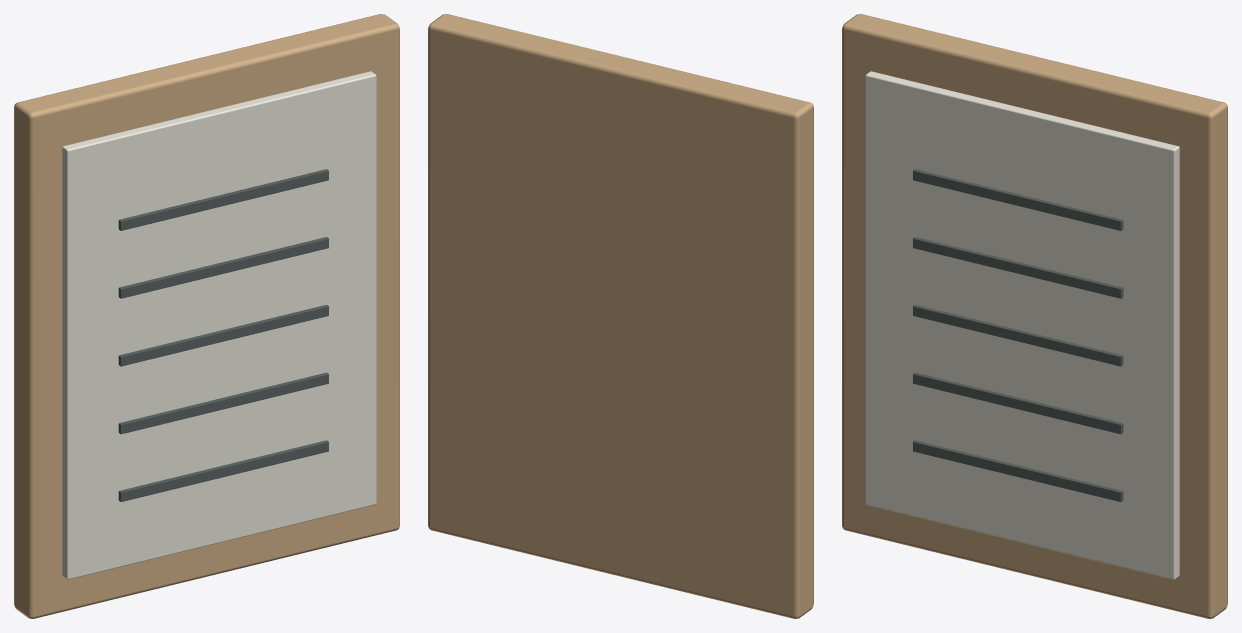
Rendered from public-library-and-reading-garden-public-library-and-r-08092f48__30948.glb.
3 renders of one model, left to right at view 1: azimuth 30°, elevation 25°; view 2: azimuth 150°, elevation 25°; view 3: azimuth 330°, elevation 25°, orthographic.
Parts seen in each view (by area): view 1: public-library-and-reading-garden-opening-hours-board; view 2: public-library-and-reading-garden-opening-hours-board; view 3: public-library-and-reading-garden-opening-hours-board.
Part boxes in pixels (box(x1,y1,x2,y2)): public-library-and-reading-garden-opening-hours-board: box(14, 14, 399, 618); public-library-and-reading-garden-opening-hours-board: box(428, 14, 813, 618); public-library-and-reading-garden-opening-hours-board: box(842, 14, 1227, 618).
Size of the model in its own units: 0.66 by 0.86 by 0.083.
